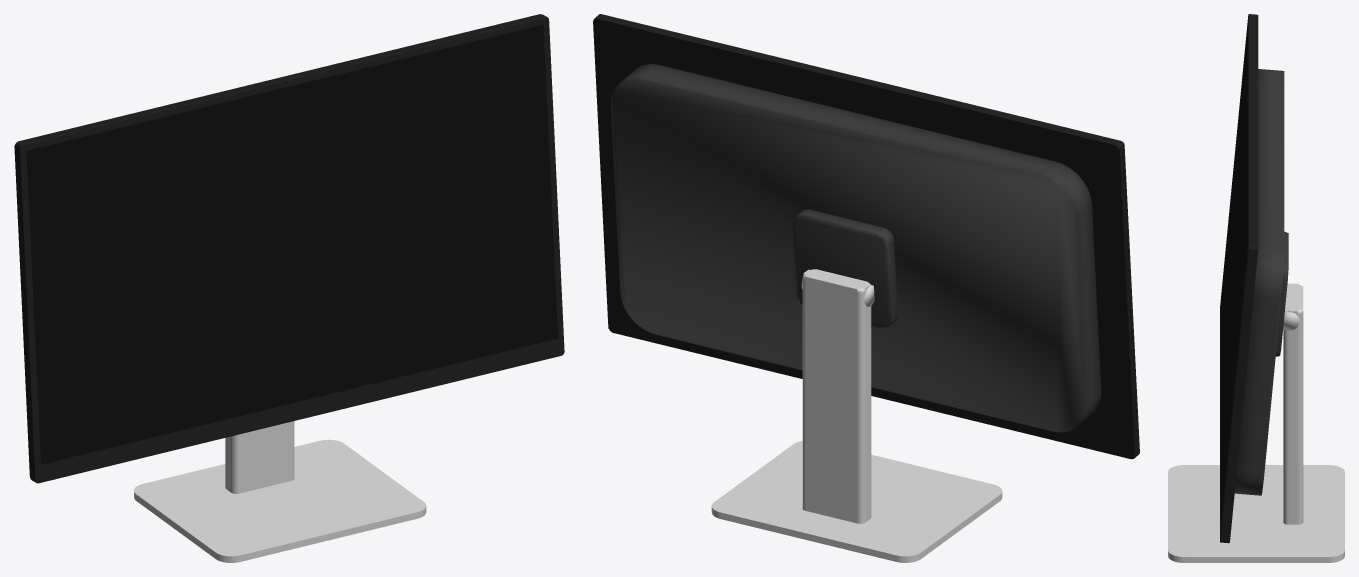
File: video-analysis-27inch-monitor.glb
The picture shows the model from 3 angles, left to right: view 1: azimuth 30°, elevation 25°; view 2: azimuth 150°, elevation 25°; view 3: azimuth 270°, elevation 25°; orthographic projection. The views are drawn at different scales.
Parts seen in each view (by area): view 1: Screen, Panel frame, Stand foot, Stand column; view 2: Back shell, Panel frame, Stand column, Stand foot, Hinge hub; view 3: Stand foot, Back shell, Screen, Panel frame, Stand column, Hinge hub, Hinge barrel.
Boxes of the visible parts, x1=… form: Screen: x1=26, y1=25, x2=557, y2=464; Panel frame: x1=14, y1=14, x2=564, y2=483; Stand foot: x1=134, y1=439, x2=426, y2=562; Stand column: x1=225, y1=421, x2=294, y2=493; Back shell: x1=611, y1=64, x2=1101, y2=432; Panel frame: x1=593, y1=14, x2=1139, y2=459; Stand column: x1=802, y1=269, x2=871, y2=523; Stand foot: x1=711, y1=441, x2=1002, y2=562; Hinge hub: x1=792, y1=209, x2=897, y2=328; Stand foot: x1=1168, y1=465, x2=1344, y2=562; Back shell: x1=1234, y1=69, x2=1284, y2=495; Screen: x1=1221, y1=23, x2=1247, y2=524; Panel frame: x1=1220, y1=14, x2=1258, y2=543; Stand column: x1=1283, y1=283, x2=1303, y2=524; Hinge hub: x1=1275, y1=231, x2=1288, y2=356; Hinge barrel: x1=1283, y1=284, x2=1299, y2=330.
Bounding box in the file's own units: 0.611 × 0.472 × 0.195.
Materials: 2 (2 with a texture image).
